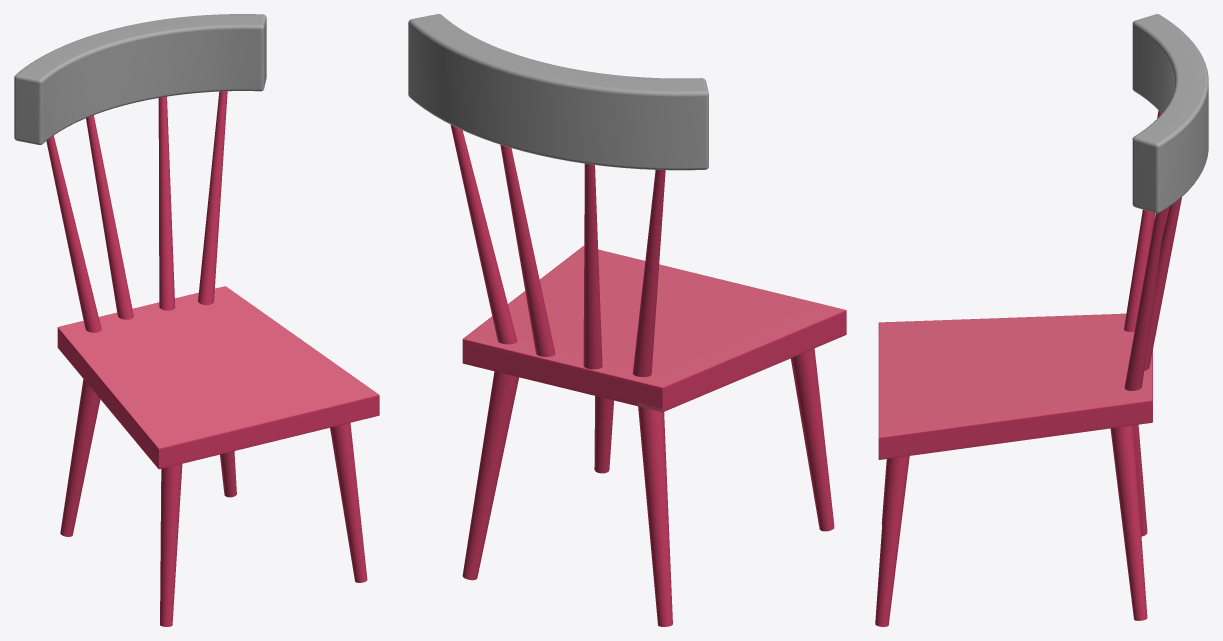
Rendered from chair.fbx.
3 views of the same model, side by side, from view 1: azimuth 30°, elevation 25°; view 2: azimuth 150°, elevation 25°; view 3: azimuth 270°, elevation 25° (orthographic). The views are drawn at different scales.
Visible parts, largest first — view 1: polySurface21; view 2: polySurface21; view 3: polySurface21.
Part boxes in pixels (x1,y1,x2,y2): polySurface21: [14, 14, 379, 626]; polySurface21: [408, 14, 846, 626]; polySurface21: [875, 14, 1208, 626].
Bounding box in the file's own units: 2.14 × 3.79 × 2.3.
